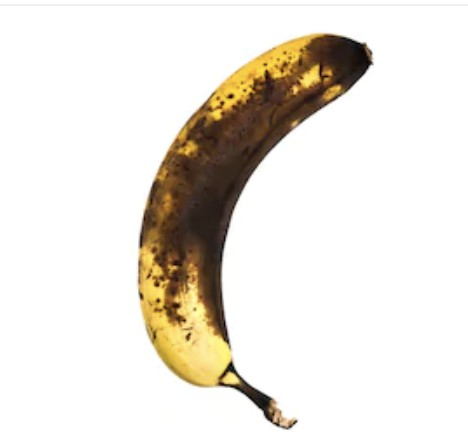rotten_banana: (138, 33, 374, 430)
